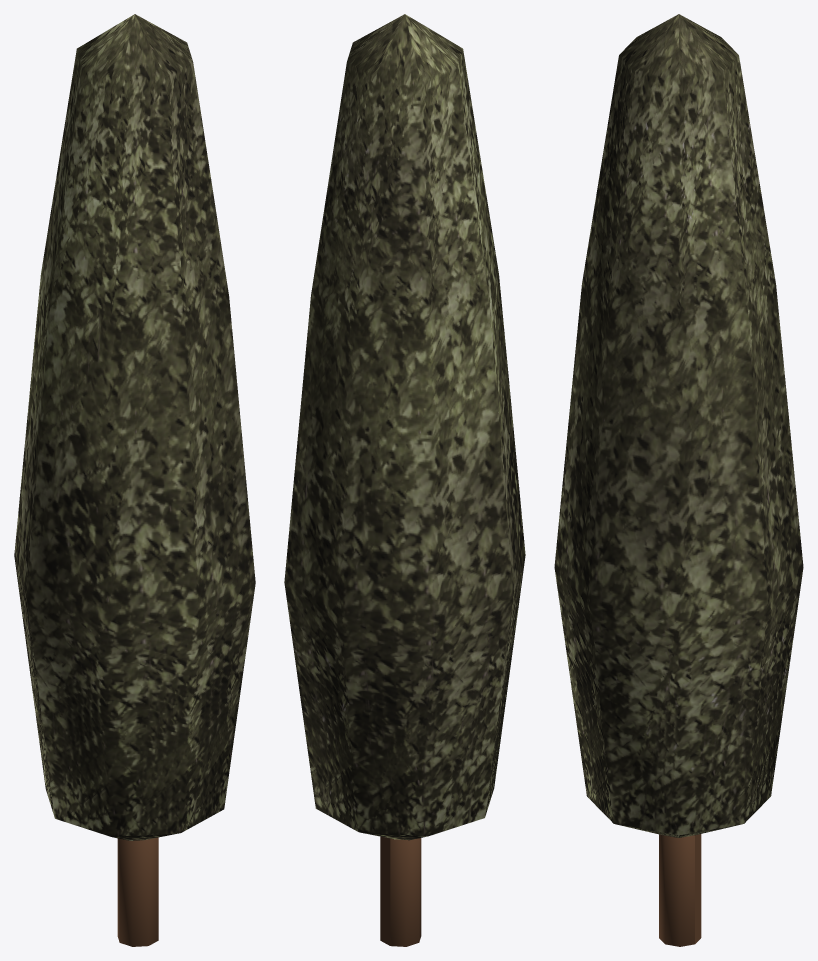
Rendered from tree.obj.
3 renders of one model, left to right at view 1: azimuth 30°, elevation 25°; view 2: azimuth 150°, elevation 25°; view 3: azimuth 270°, elevation 25°, orthographic.
Parts seen in each view (by area): view 1: tree_leaves, tree_trunk; view 2: tree_leaves, tree_trunk; view 3: tree_leaves, tree_trunk.
Part boxes in pixels (x1,y1,x2,y2): tree_leaves: [14, 14, 255, 840]; tree_trunk: [117, 837, 158, 946]; tree_leaves: [284, 14, 525, 840]; tree_trunk: [380, 836, 421, 946]; tree_leaves: [554, 14, 803, 837]; tree_trunk: [659, 834, 701, 946].
Size of the model in its own units: 2.44 by 9.97 by 2.44.
Materials: 2 (1 with a texture image).
